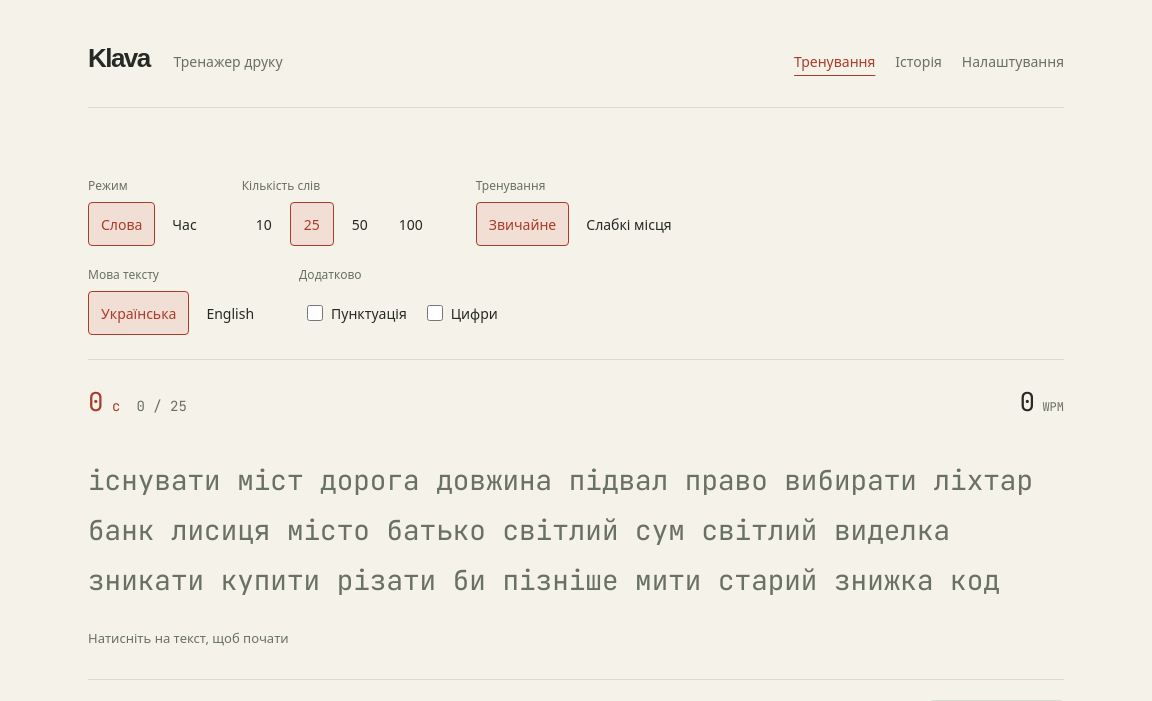
Test: remembers a 15 second limit after changing modes
This screenshot has width=1152, height=701.
Click the radio button labelled "Час". click: (184, 224)
box: [172, 215, 197, 234]
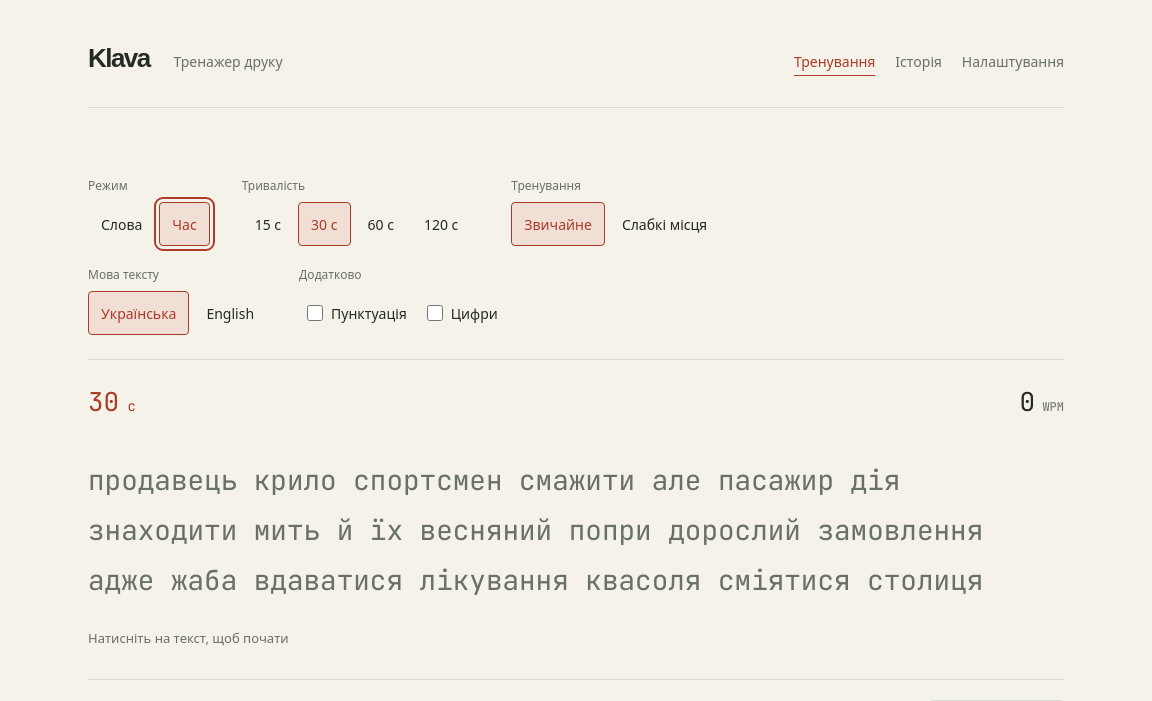
Click the radio button labelled "15 с". click: (268, 224)
box: [255, 215, 281, 234]
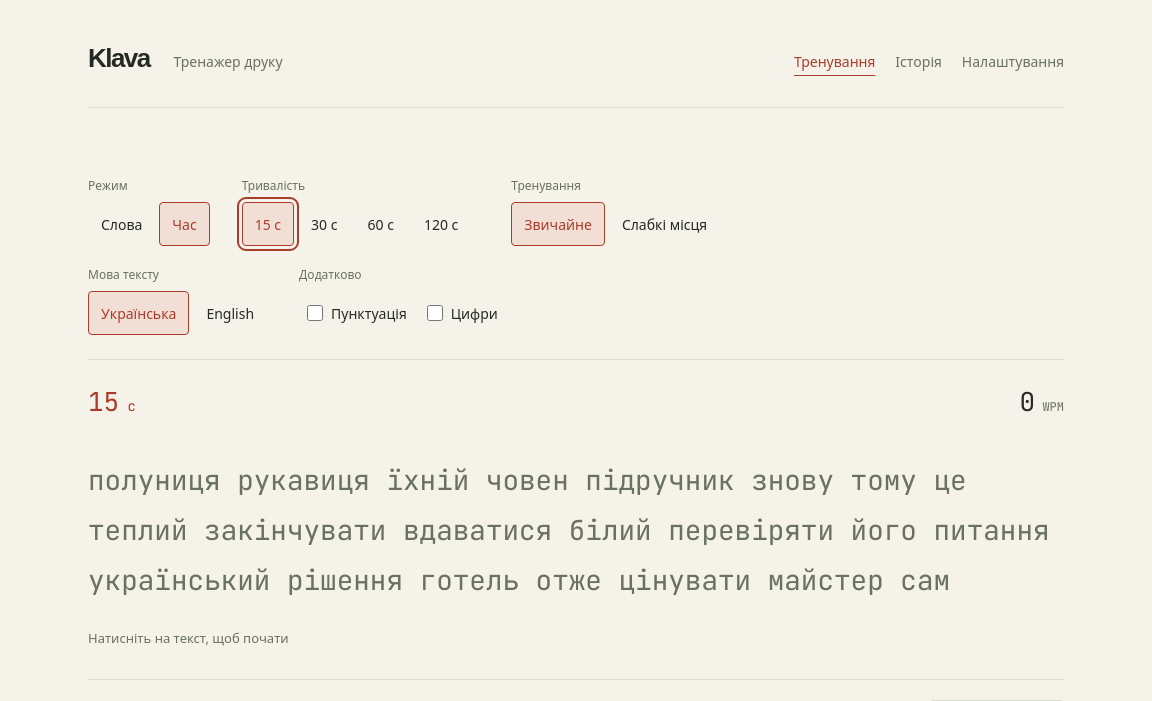
Click the radio button labelled "Слова". click: (122, 224)
box: [101, 215, 142, 234]
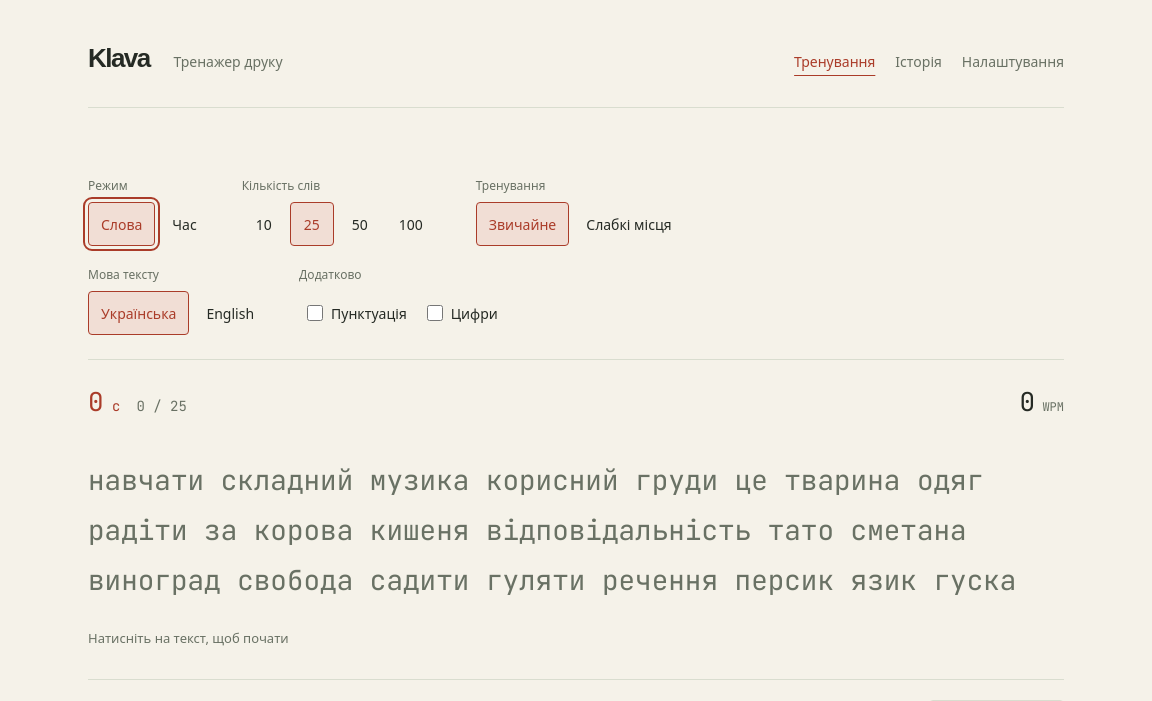
Expected: the text "Тривалість" is gone
Click the radio button labelled "Час". click: (184, 224)
box: [172, 215, 197, 234]
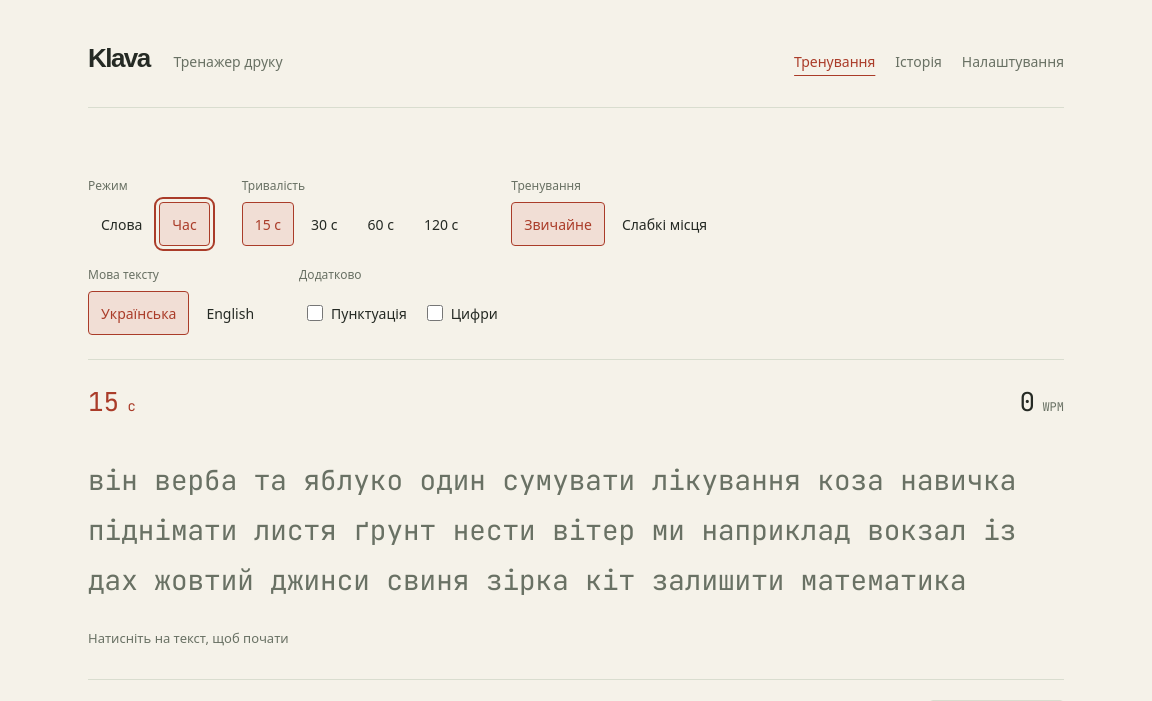
Expected: the radio button labelled "15 с" is checked, [242, 202, 294, 246]
